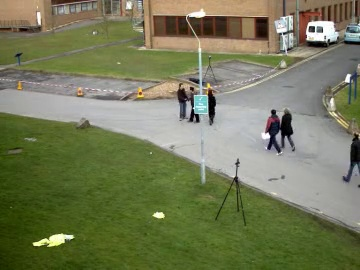person: (177, 81, 196, 121), (176, 81, 195, 120), (177, 83, 196, 122)
